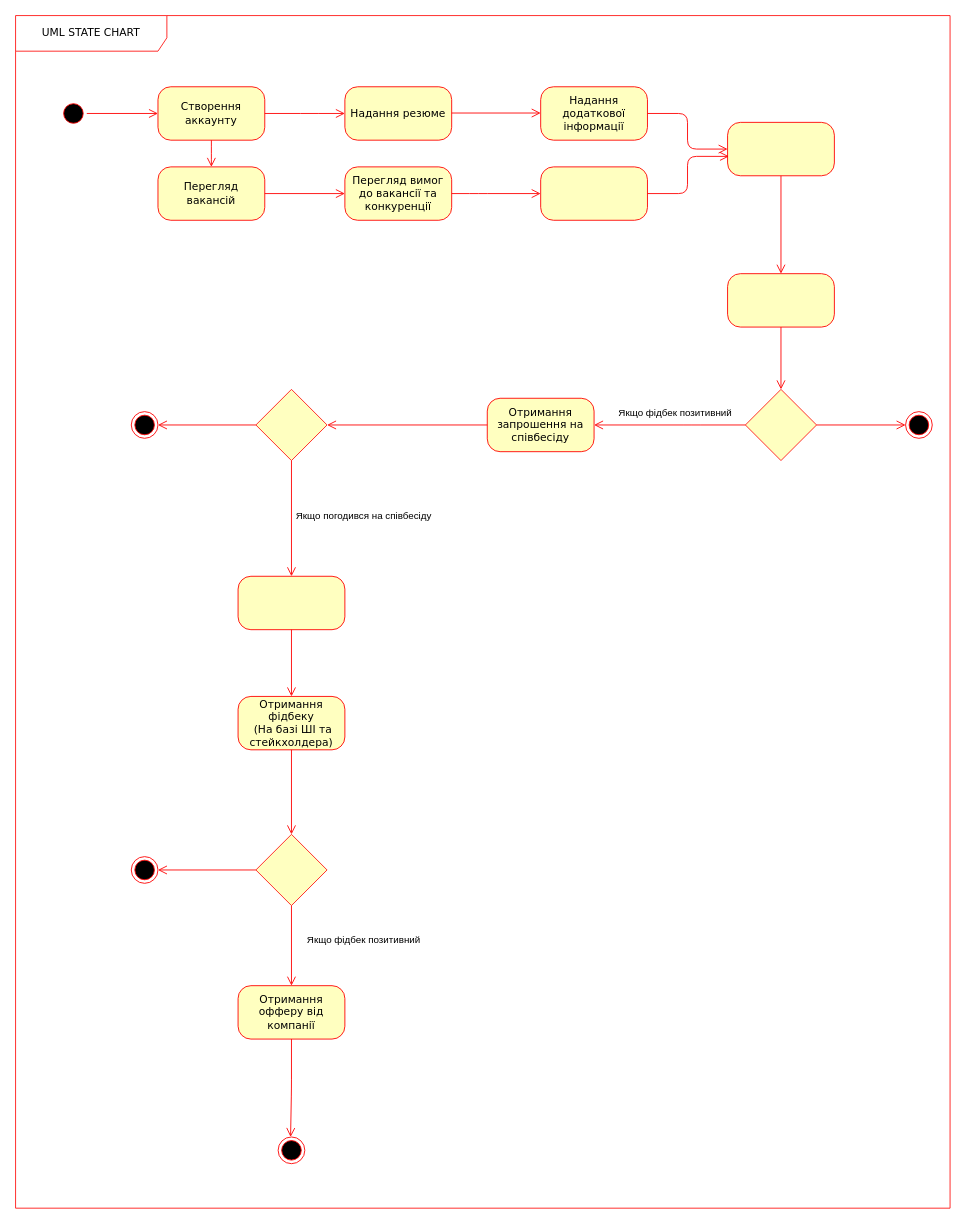
This 966x1224 diagram has some shape labels left out. The centre of each missing label's shape, as x and y in pixels:
Обрати певну вакансію: (x=593, y=193)
Отримання фідбеку (На базі ШІ): (x=780, y=300)
Проходження співбесіди: (x=291, y=602)
Створення запиту на обрану вакансію: (x=780, y=148)
